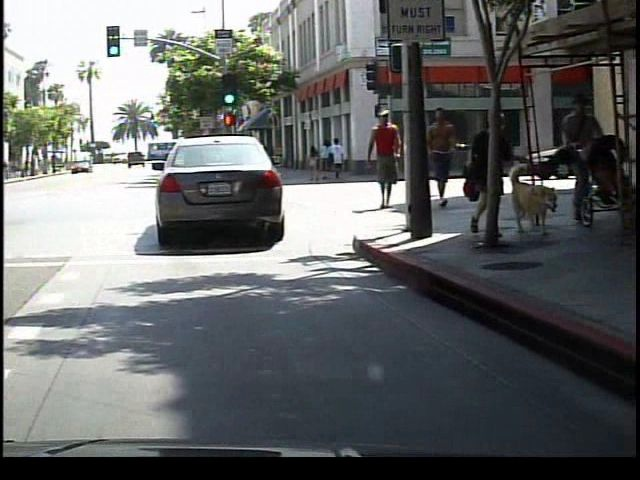person: (363, 105, 406, 217), (422, 102, 463, 216)
